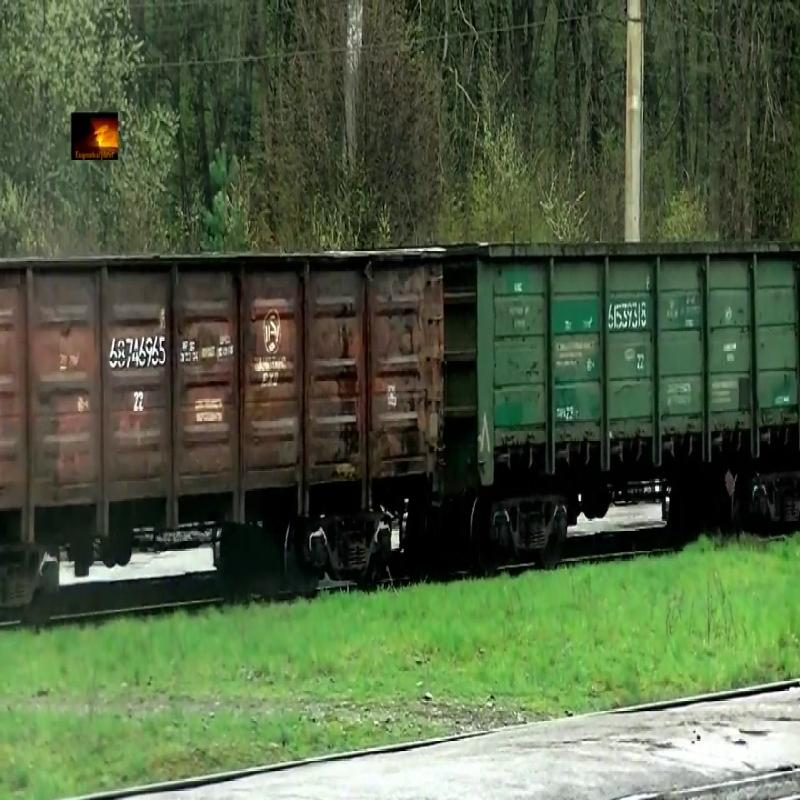train: (2, 247, 447, 535), (447, 245, 800, 490)
